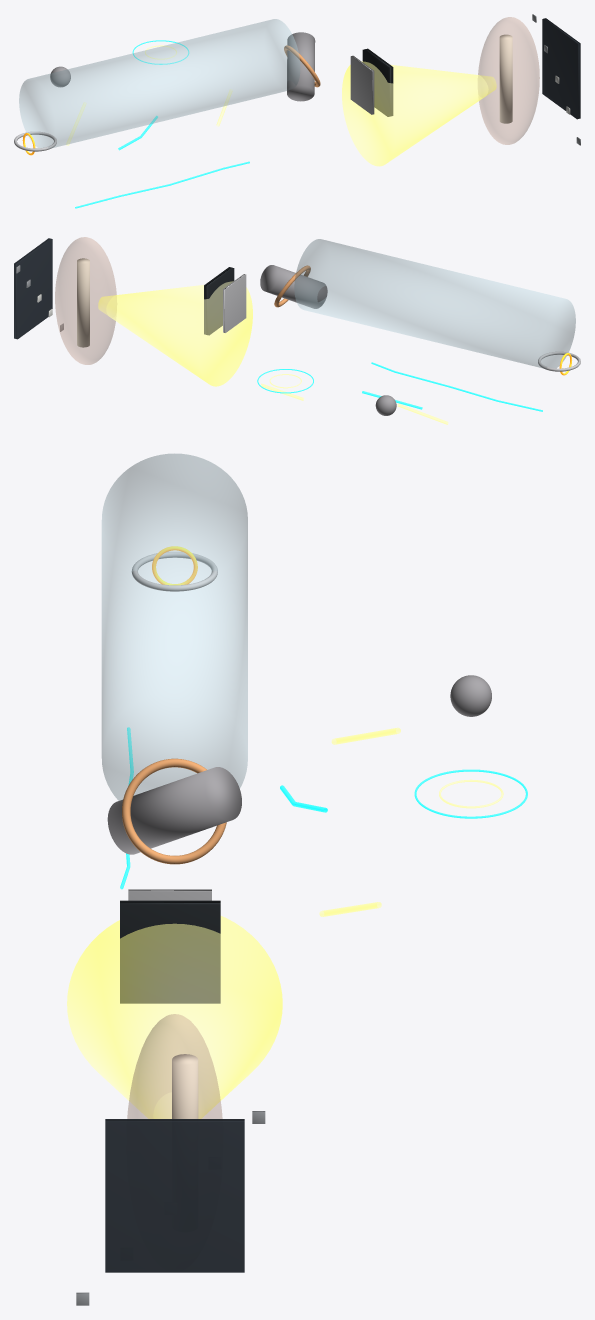
File: radiologie_rx_premium.glb
3 renders of one model, top to bottom at view 1: azimuth 30°, elevation 25°; view 2: azimuth 150°, elevation 25°; view 3: azimuth 270°, elevation 25°, orthographic. The views are drawn at different scales.
Visible parts, largest first — view 1: DEVICE_tube_coolidge_ampoule_verre, FLOW_faisceau_rayons_X_utiles, BODY_patient_coupe_radiologique, DEVICE_detecteur_radiologique, DEVICE_anode_tungstene_cible_inclinee, DEVICE_collimateur_plomb, BONE_os_absorbeur_rx, DEVICE_filtre_aluminium, FLOW_trajectoire_electrons, ATOM_noyau_tungstene_bremsstrahlung, DEVICE_cathode_coupelle, DEVICE_anode_tournante_rotation; view 2: DEVICE_tube_coolidge_ampoule_verre, FLOW_faisceau_rayons_X_utiles, BODY_patient_coupe_radiologique, DEVICE_detecteur_radiologique, DEVICE_anode_tungstene_cible_inclinee, DEVICE_collimateur_plomb, BONE_os_absorbeur_rx, DEVICE_filtre_aluminium, FLOW_trajectoire_electrons, ATOM_noyau_tungstene_bremsstrahlung, DEVICE_anode_tournante_rotation, DEVICE_cathode_coupelle; view 3: DEVICE_tube_coolidge_ampoule_verre, FLOW_faisceau_rayons_X_utiles, DEVICE_detecteur_radiologique, DEVICE_collimateur_plomb, BODY_patient_coupe_radiologique, DEVICE_anode_tungstene_cible_inclinee, DEVICE_anode_tournante_rotation, BONE_os_absorbeur_rx, ATOM_noyau_tungstene_bremsstrahlung, DEVICE_cathode_coupelle.
Part boxes in pixels (bbox=[...]): DEVICE_tube_coolidge_ampoule_verre: bbox=[19, 19, 300, 148]; FLOW_faisceau_rayons_X_utiles: bbox=[342, 61, 496, 166]; BODY_patient_coupe_radiologique: bbox=[478, 17, 539, 144]; DEVICE_detecteur_radiologique: bbox=[542, 18, 580, 119]; DEVICE_anode_tungstene_cible_inclinee: bbox=[287, 32, 315, 101]; DEVICE_collimateur_plomb: bbox=[362, 48, 393, 116]; BONE_os_absorbeur_rx: bbox=[499, 34, 512, 123]; DEVICE_filtre_aluminium: bbox=[350, 55, 374, 114]; FLOW_trajectoire_electrons: bbox=[75, 161, 249, 208]; ATOM_noyau_tungstene_bremsstrahlung: bbox=[50, 66, 70, 87]; DEVICE_cathode_coupelle: bbox=[14, 131, 56, 151]; DEVICE_anode_tournante_rotation: bbox=[284, 45, 320, 87]; DEVICE_tube_coolidge_ampoule_verre: bbox=[294, 239, 575, 368]; FLOW_faisceau_rayons_X_utiles: bbox=[98, 281, 252, 386]; BODY_patient_coupe_radiologique: bbox=[55, 237, 116, 364]; DEVICE_detecteur_radiologique: bbox=[14, 238, 52, 339]; DEVICE_anode_tungstene_cible_inclinee: bbox=[260, 265, 327, 308]; DEVICE_collimateur_plomb: bbox=[204, 267, 234, 335]; BONE_os_absorbeur_rx: bbox=[77, 258, 89, 347]; DEVICE_filtre_aluminium: bbox=[223, 274, 246, 332]; FLOW_trajectoire_electrons: bbox=[371, 362, 542, 411]; ATOM_noyau_tungstene_bremsstrahlung: bbox=[375, 395, 396, 415]; DEVICE_anode_tournante_rotation: bbox=[274, 265, 310, 307]; DEVICE_cathode_coupelle: bbox=[538, 351, 580, 371]; DEVICE_tube_coolidge_ampoule_verre: bbox=[102, 453, 247, 800]; FLOW_faisceau_rayons_X_utiles: bbox=[67, 916, 282, 1118]; DEVICE_detecteur_radiologique: bbox=[105, 1119, 244, 1272]; DEVICE_collimateur_plomb: bbox=[120, 900, 220, 1003]; BODY_patient_coupe_radiologique: bbox=[127, 1014, 222, 1118]; DEVICE_anode_tungstene_cible_inclinee: bbox=[107, 767, 241, 854]; DEVICE_anode_tournante_rotation: bbox=[122, 758, 226, 864]; BONE_os_absorbeur_rx: bbox=[172, 1054, 198, 1118]; ATOM_noyau_tungstene_bremsstrahlung: bbox=[450, 675, 491, 716]; DEVICE_cathode_coupelle: bbox=[131, 551, 217, 591].
Size of the model in its own units: 7.25 by 2.26 by 2.65.
